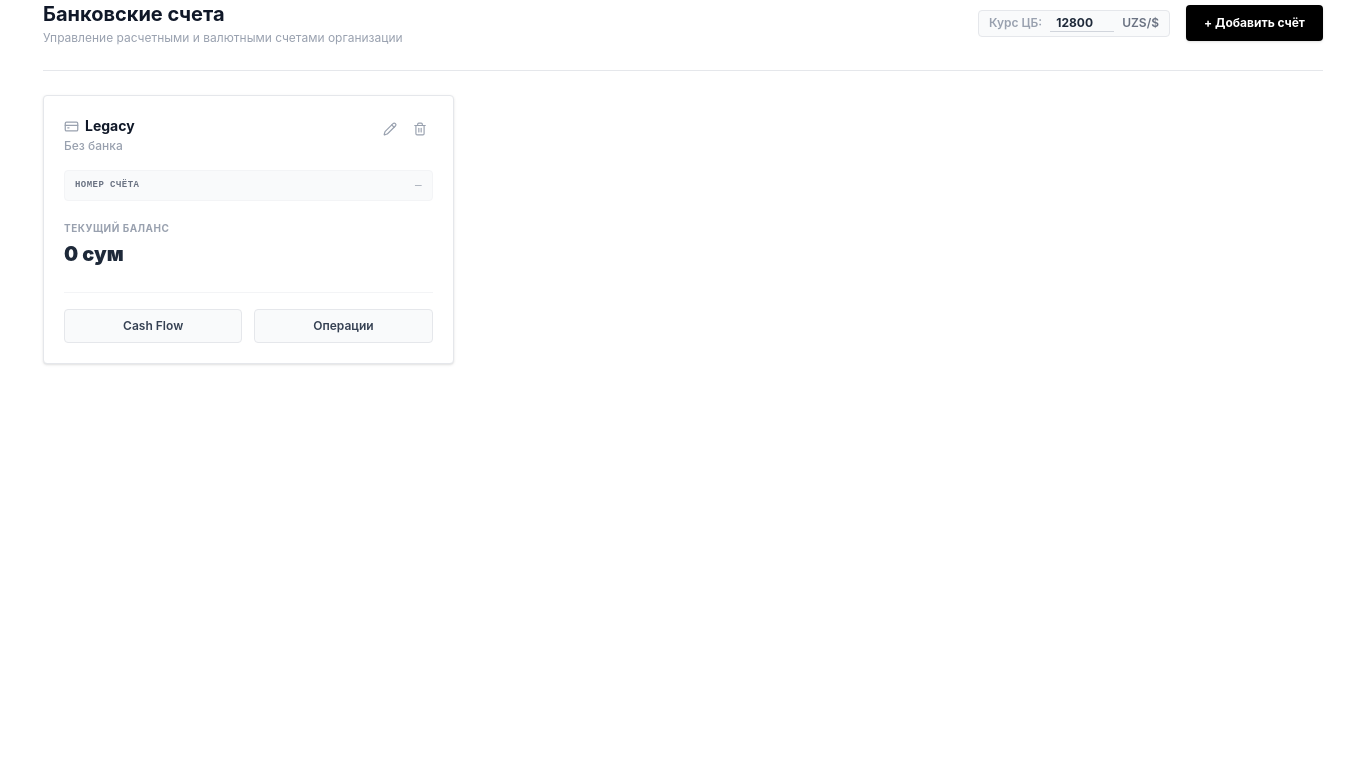
Scenario: bank account form without a browser › does not write an unchanged form
Step 1. Click the button titled "Редактировать" → (390, 129), box x1=377 y1=116 x2=403 y2=142
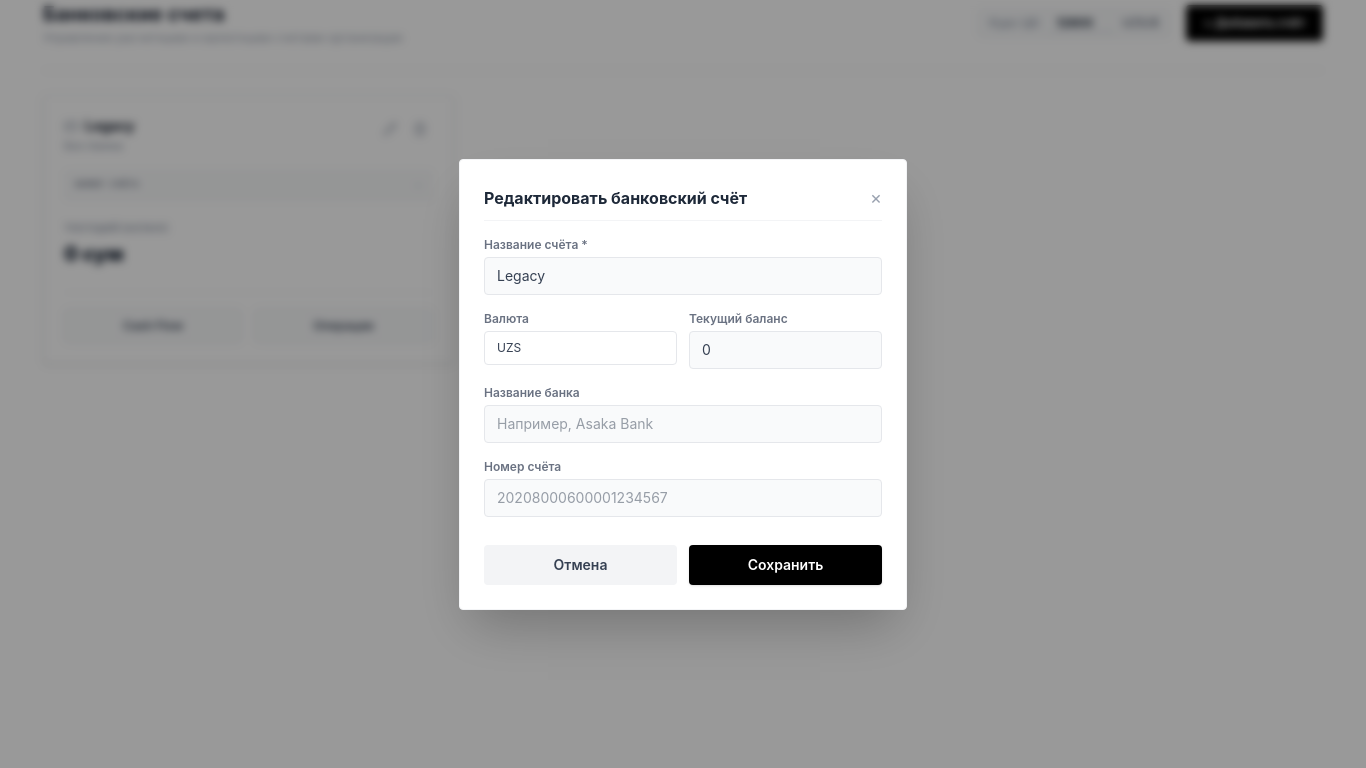
Step 2. Click the button "Сохранить" → (786, 564), box x1=689 y1=544 x2=882 y2=584
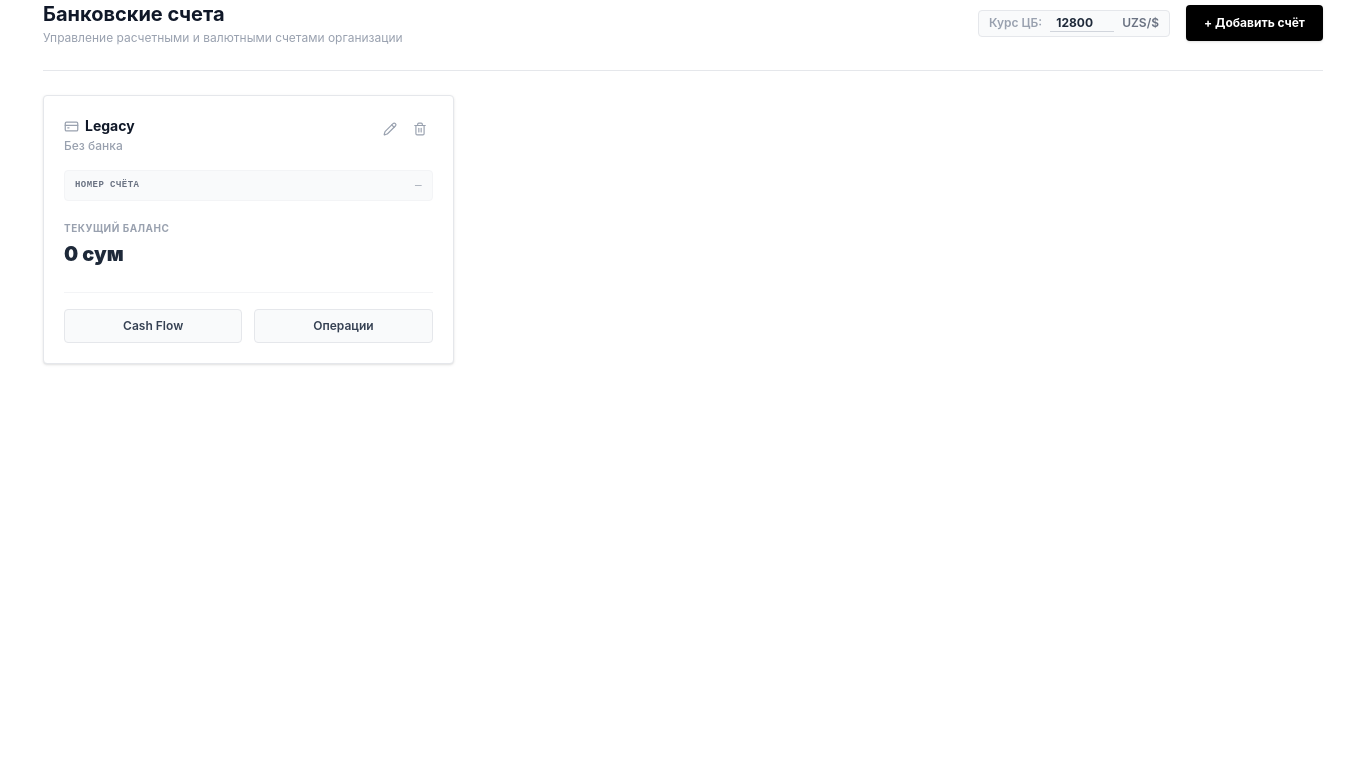
Now the form is gone
